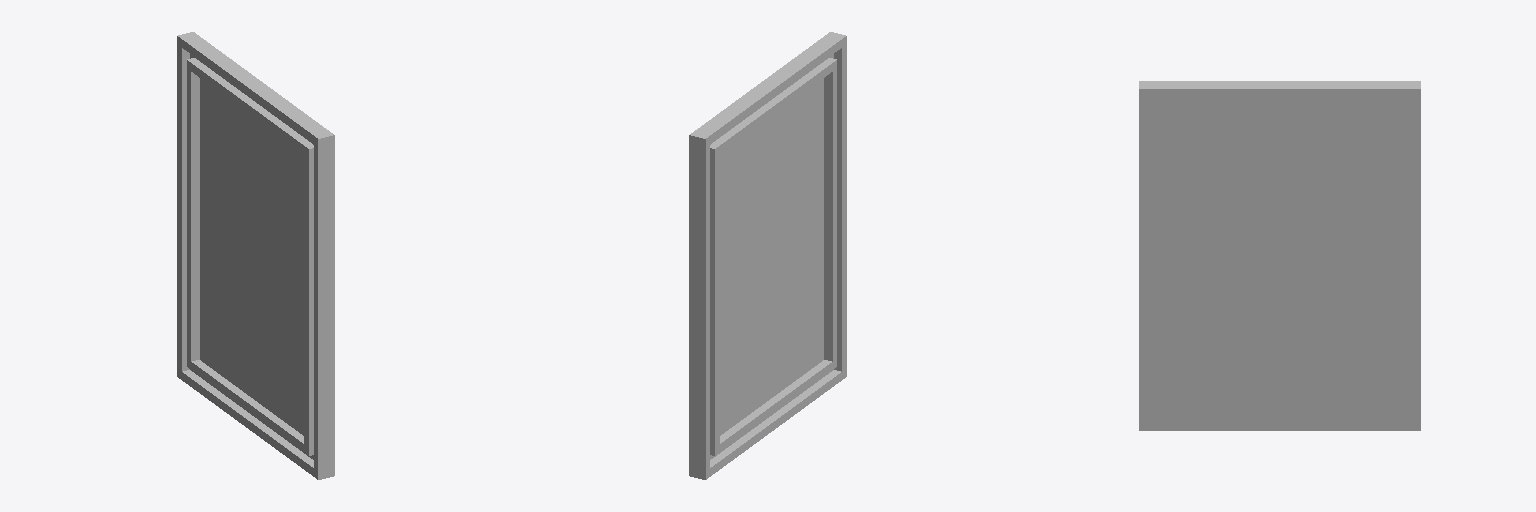
The model's file is painting final-0.obj.
The picture shows the model from 3 angles: view 1: azimuth 30°, elevation 25°; view 2: azimuth 150°, elevation 25°; view 3: azimuth 270°, elevation 25°; orthographic projection.
Parts seen in each view (by area): view 1: painting final-0; view 2: painting final-0; view 3: painting final-0.
Part boxes in pixels (x1,y1,x2,y2): painting final-0: (177, 32, 334, 479); painting final-0: (689, 32, 846, 479); painting final-0: (1139, 81, 1420, 430).
Bounding box in the file's own units: 2 × 40 × 30.